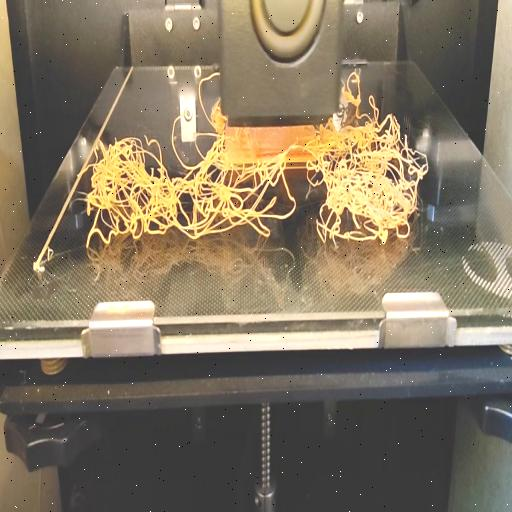spaghetti: (77, 126, 431, 260), (341, 64, 403, 124), (194, 67, 224, 131), (173, 111, 196, 123)
